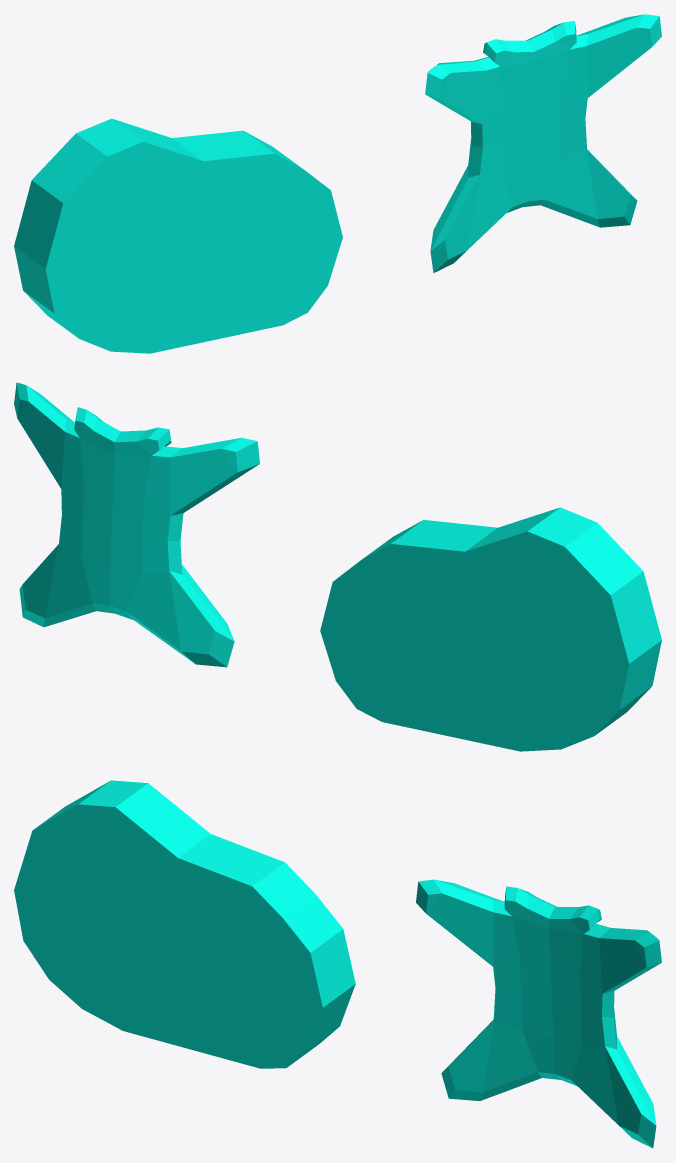
The picture shows the model from 3 angles, top to bottom: view 1: azimuth 30°, elevation 25°; view 2: azimuth 150°, elevation 25°; view 3: azimuth 330°, elevation 25°; orthographic projection. The views are drawn at different scales.
Visible parts, largest first — view 1: Object002, Object001; view 2: Object002, Object001; view 3: Object002, Object001.
Boxes of the visible parts, x1,y1,x2,y2 form: Object002: (14,118,342,353); Object001: (425,14,661,272); Object002: (320,507,661,751); Object001: (14,382,259,667); Object002: (14,780,355,1068); Object001: (416,879,661,1148).
Size of the model in its own units: 13.91 by 4.67 by 1.23.
